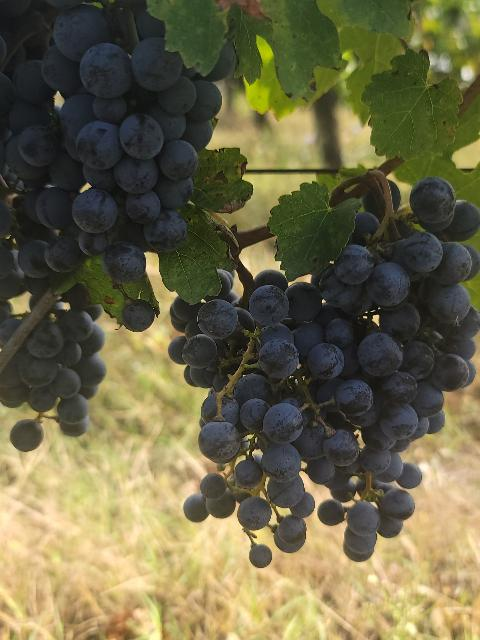grapes: (5, 0, 235, 285), (322, 178, 480, 488), (171, 270, 328, 552), (286, 282, 410, 442), (318, 431, 421, 561)
